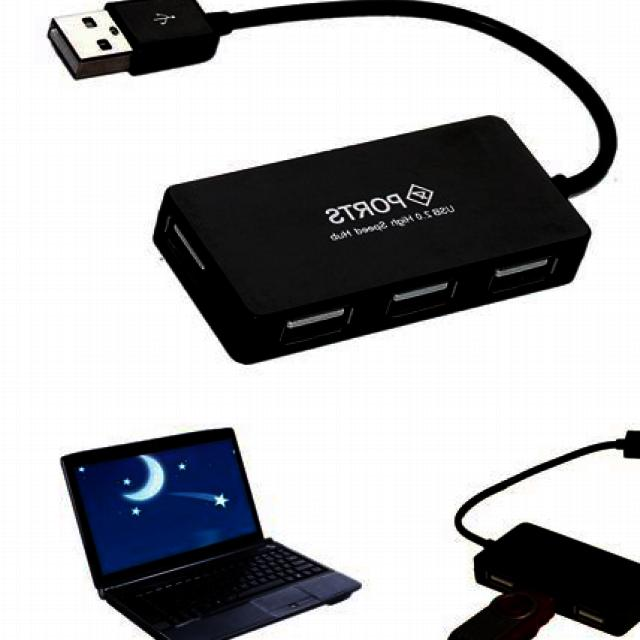usb port: (280, 299, 356, 353), (389, 264, 465, 316), (486, 247, 559, 296), (168, 214, 222, 272), (483, 565, 522, 589), (574, 603, 607, 622)
